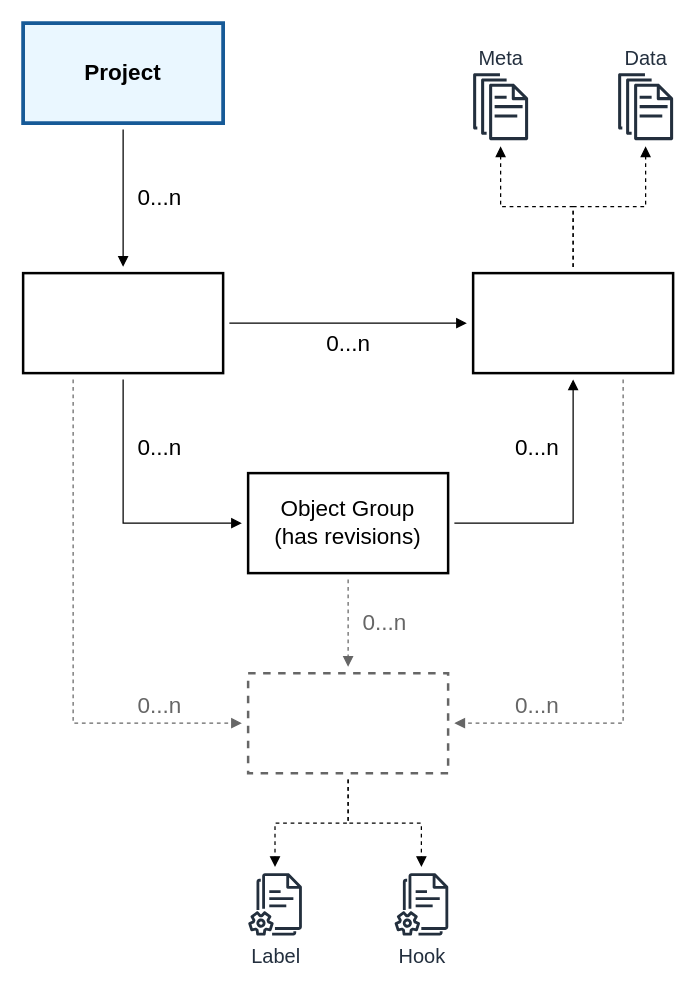
This 696x990 diagram has some shape labels left out. Each missing label, with the centre of its shape:
"Collection (has versions)" goes at (122,322).
"KeyValue" goes at (347,722).
"Object (has revisions)" goes at (572,322).
